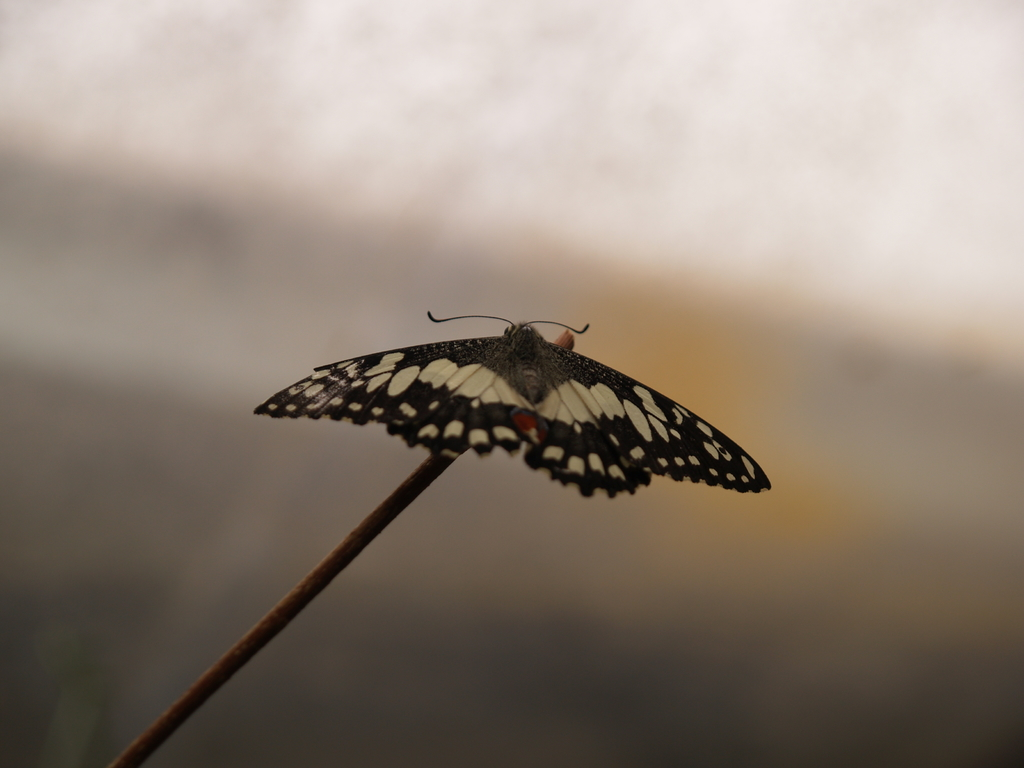Butterfly: (253, 298, 798, 515)
